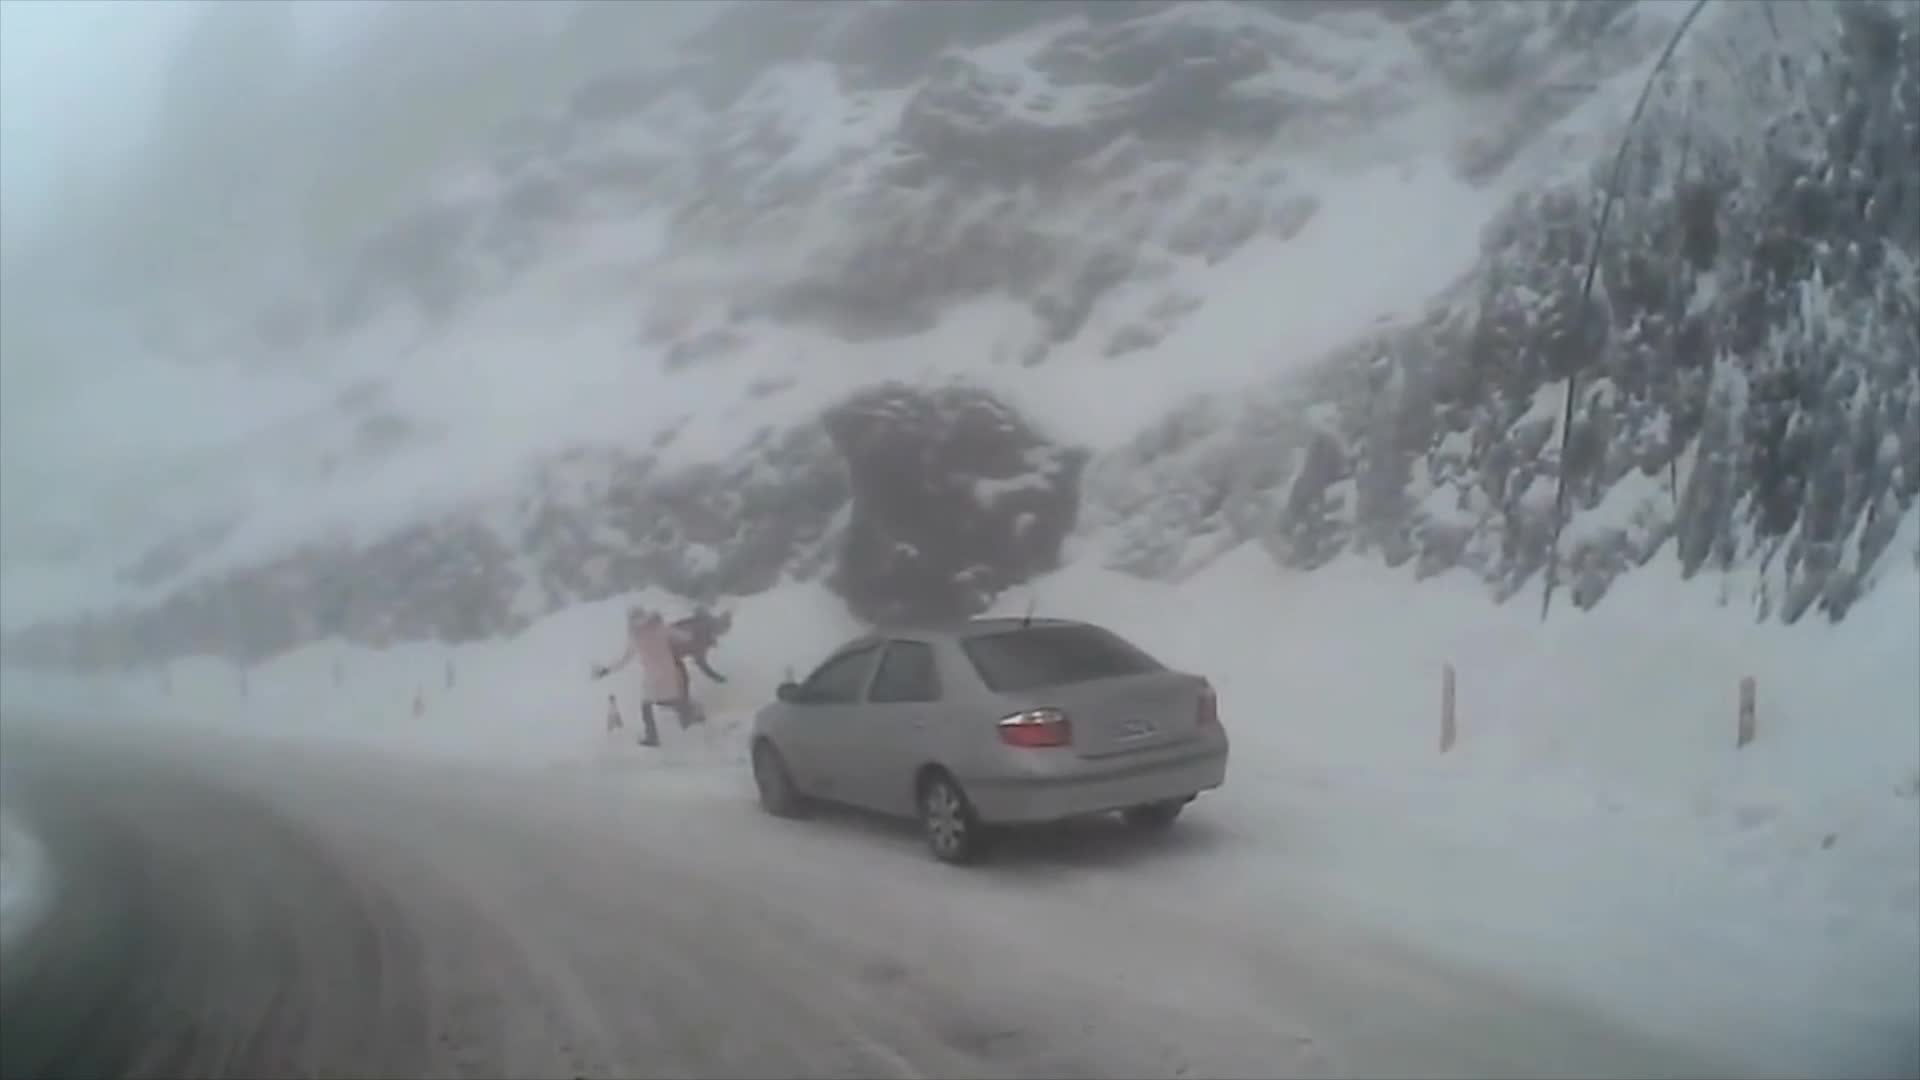pedestrian: (595, 607, 708, 749)
vehicle: (750, 614, 1229, 867)
